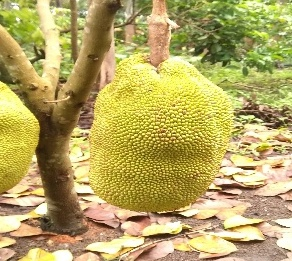Mit: (86, 54, 233, 212)
